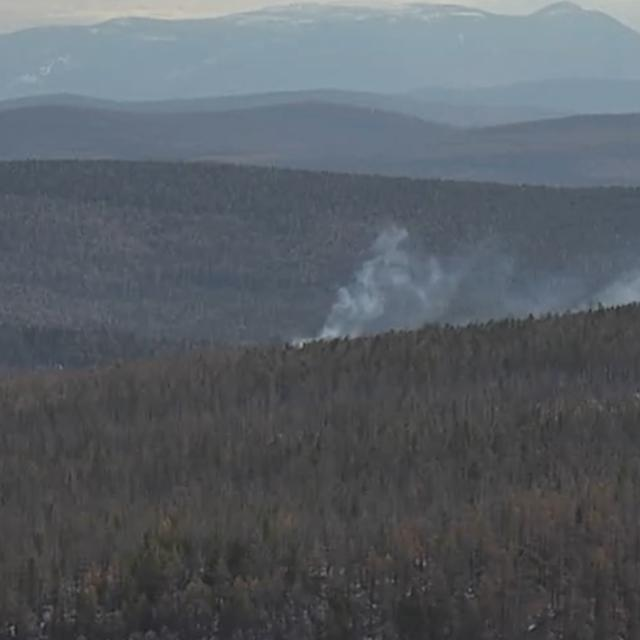Smoke: (291, 222, 640, 344)
